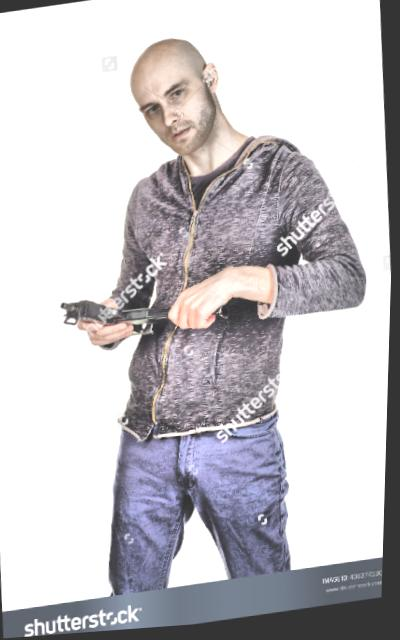pistol: (59, 287, 161, 353)
